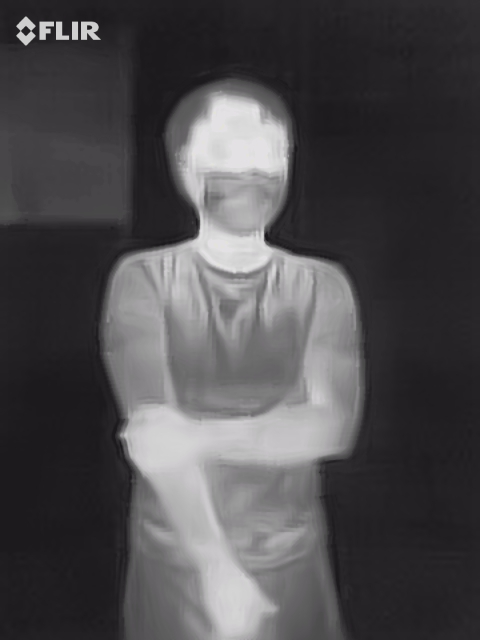head: (162, 78, 294, 237)
